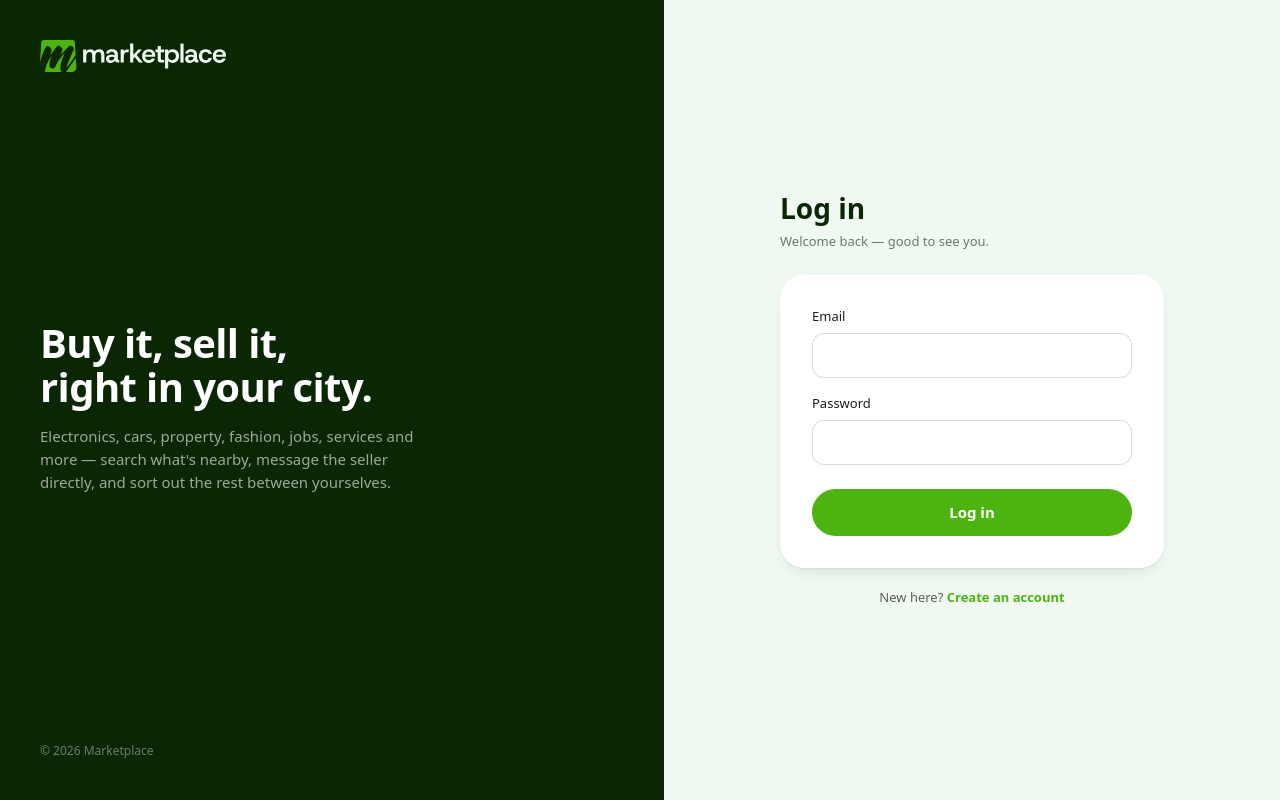
LoginPage › shows an error message when the phone has not been verified
This screenshot has width=1280, height=800.
Step 1. Type "ada@example.com" into the field labelled "Email" → (972, 356), box x1=812 y1=333 x2=1132 y2=378
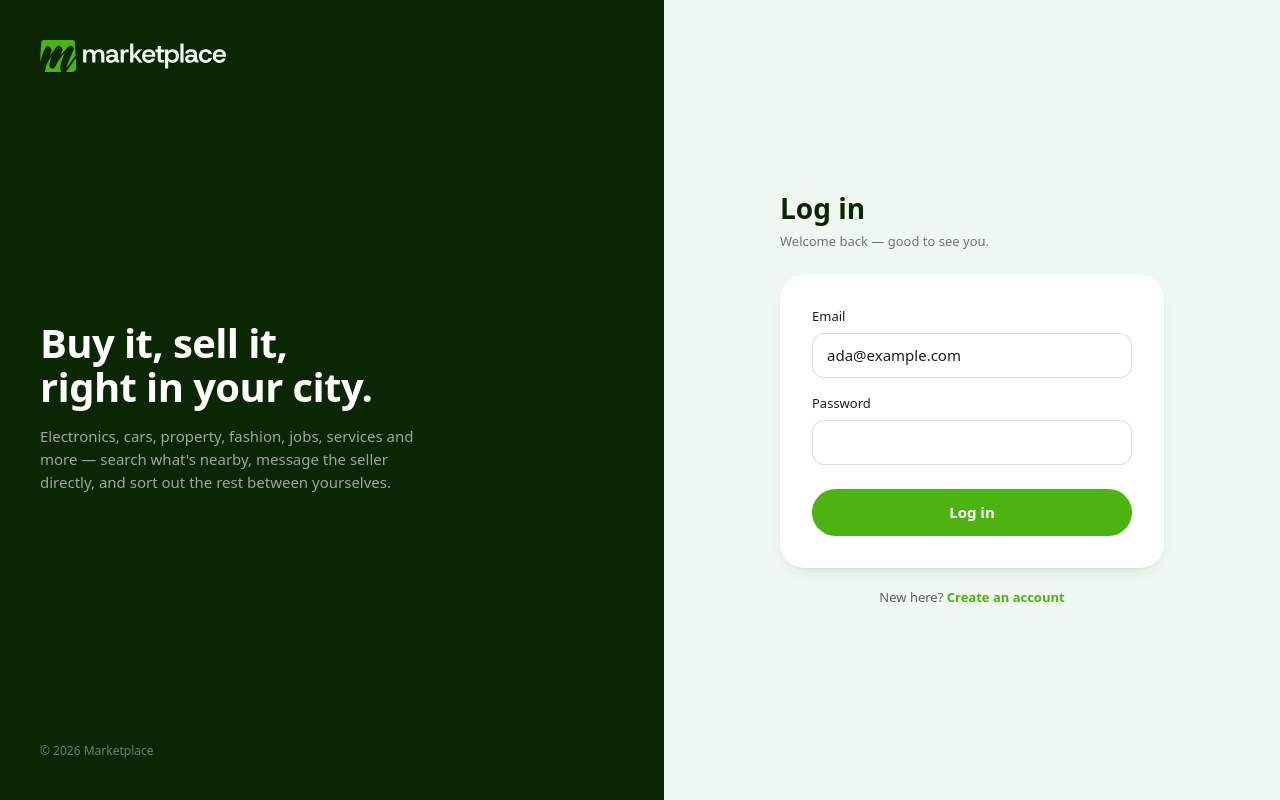
Step 2. Type "password123" into the password field labelled "Password" → (972, 442), box x1=812 y1=420 x2=1132 y2=465
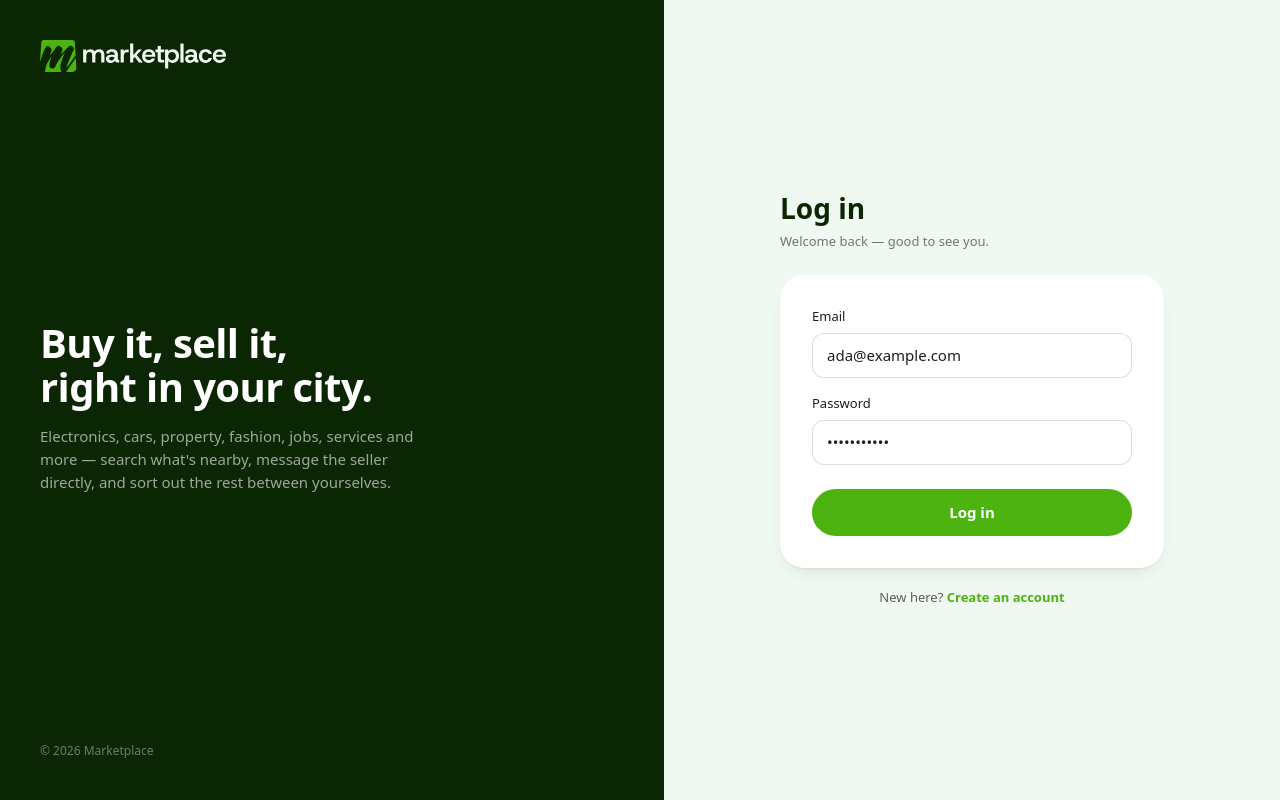
Step 3. Click the button "Log in" → (972, 513), box x1=812 y1=489 x2=1132 y2=536
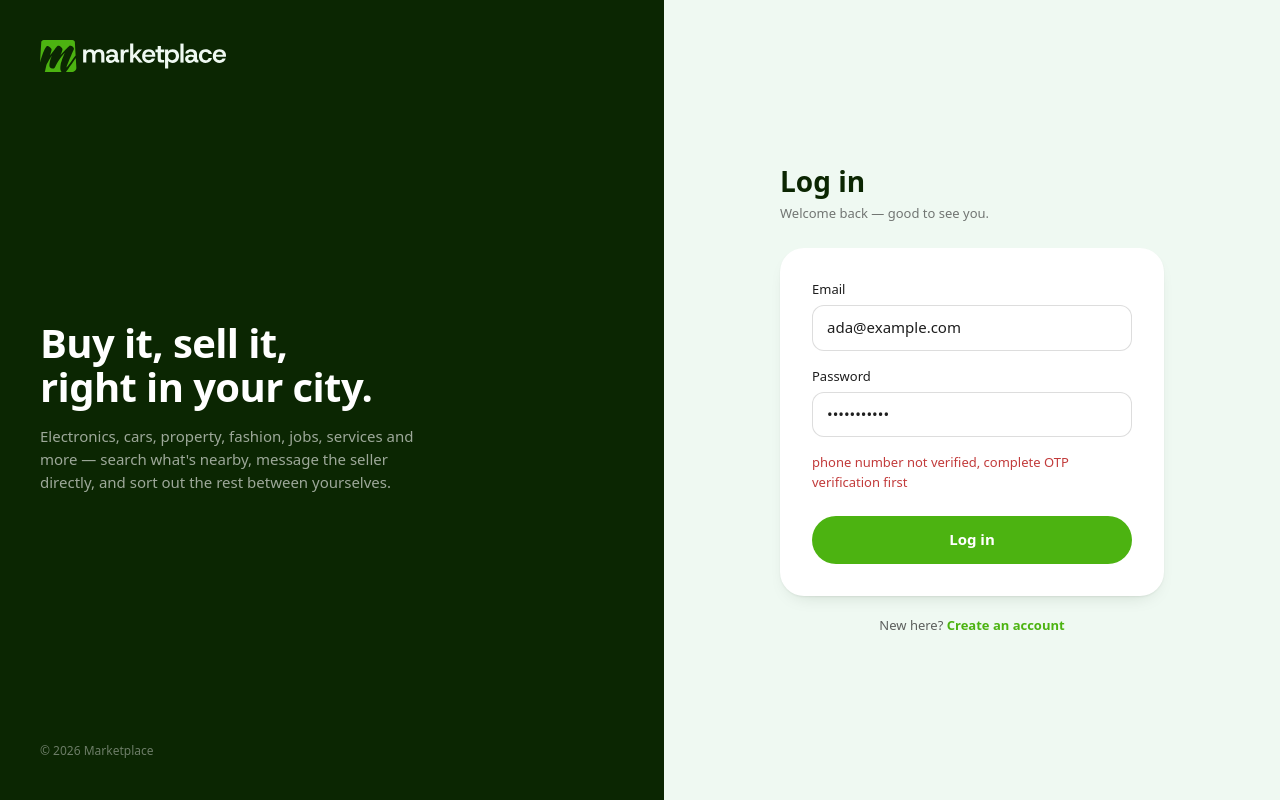
Check: the text "phone number not verified, complete OTP verification first" is shown, box x1=812 y1=453 x2=1069 y2=491
